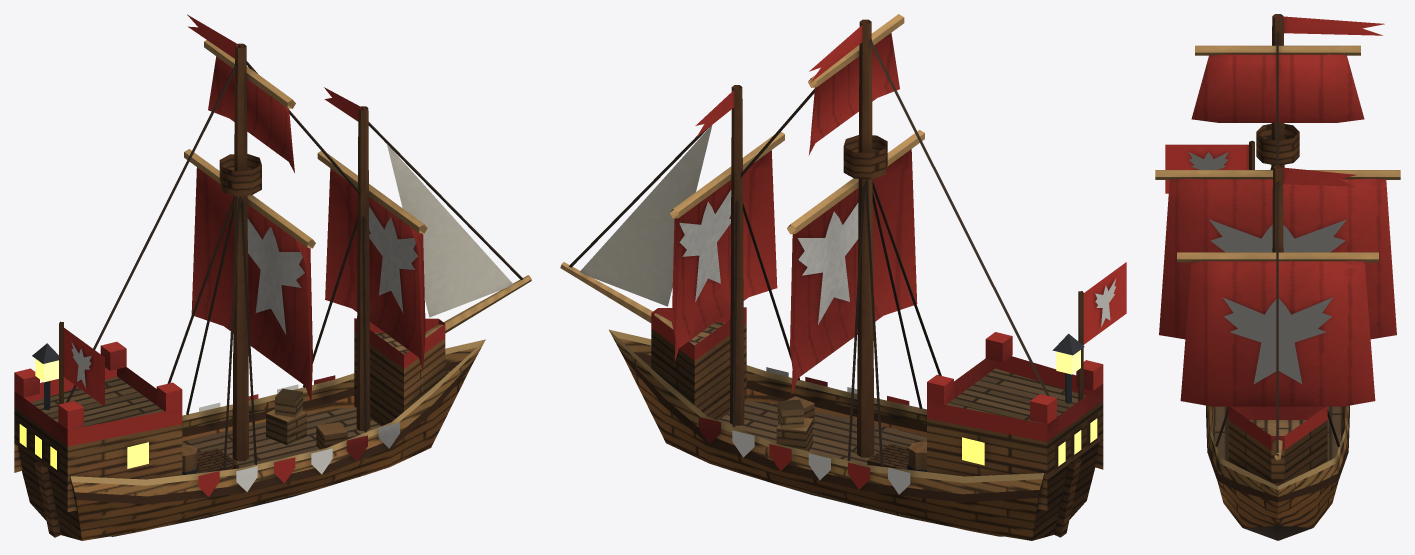
Rendered from warship_red.glb.
The picture shows the model from 3 angles, left to right: view 1: azimuth 30°, elevation 25°; view 2: azimuth 150°, elevation 25°; view 3: azimuth 270°, elevation 25°; orthographic projection. The views are drawn at different scales.
Parts seen in each view (by area): view 1: warship_red; view 2: warship_red; view 3: warship_red.
Part boxes in pixels (x1=…): warship_red: x1=14, y1=14, x2=531, y2=540; warship_red: x1=560, y1=14, x2=1126, y2=540; warship_red: x1=1155, y1=14, x2=1400, y2=540.
Bounding box in the file's own units: 0.785 × 0.705 × 0.34.
3 materials, 1 textured.
